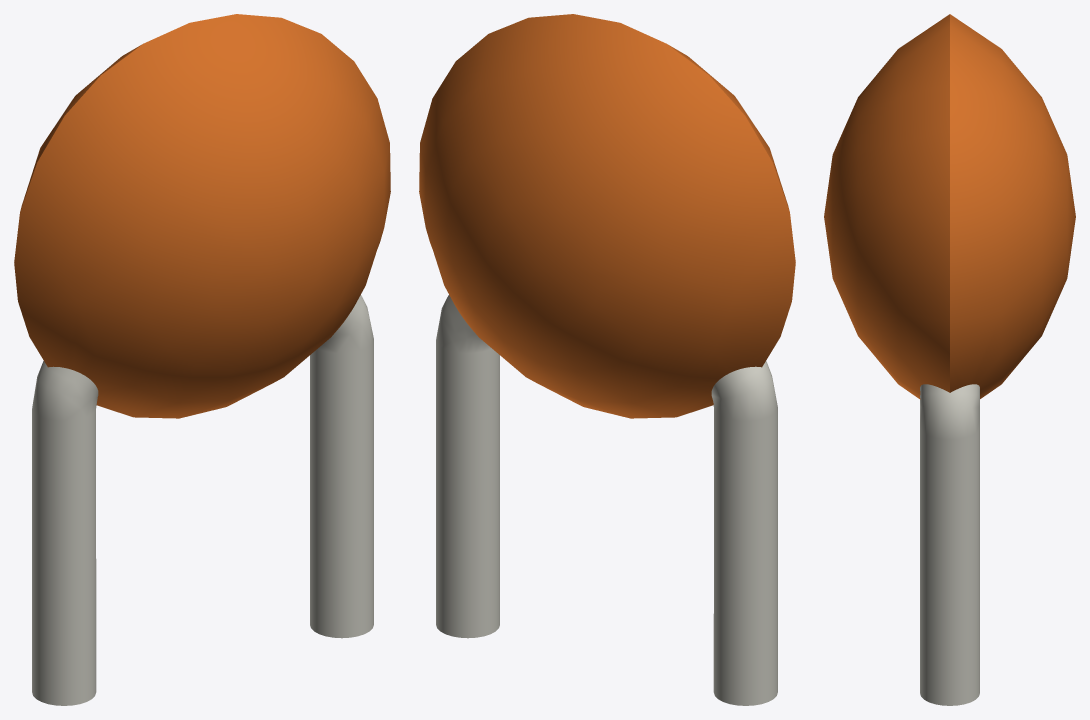
Rendered from Capacitor_THT__C_Disc_D3.4mm_W2.1mm_P2.50mm.glb.
3 views of the same model, side by side, from view 1: azimuth 30°, elevation 25°; view 2: azimuth 150°, elevation 25°; view 3: azimuth 270°, elevation 25° (orthographic). The views are drawn at different scales.
Parts seen in each view (by area): view 1: C_Disc_D34mm_W21mm_P250mm; view 2: C_Disc_D34mm_W21mm_P250mm; view 3: C_Disc_D34mm_W21mm_P250mm.
Part boxes in pixels (x1,y1,x2,y2): C_Disc_D34mm_W21mm_P250mm: (14,14,390,705); C_Disc_D34mm_W21mm_P250mm: (419,14,795,705); C_Disc_D34mm_W21mm_P250mm: (824,14,1075,705).
Size of the model in its own units: 0.00339 by 0.0055 by 0.0021.
